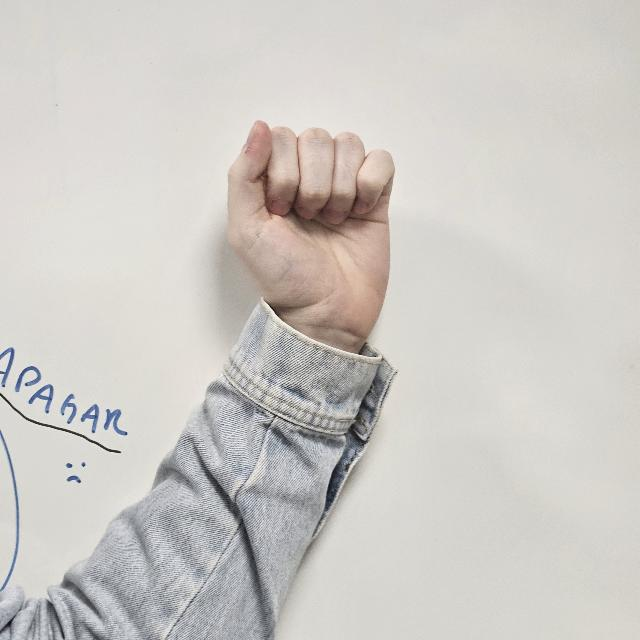Quadro: (224, 107, 396, 351)
